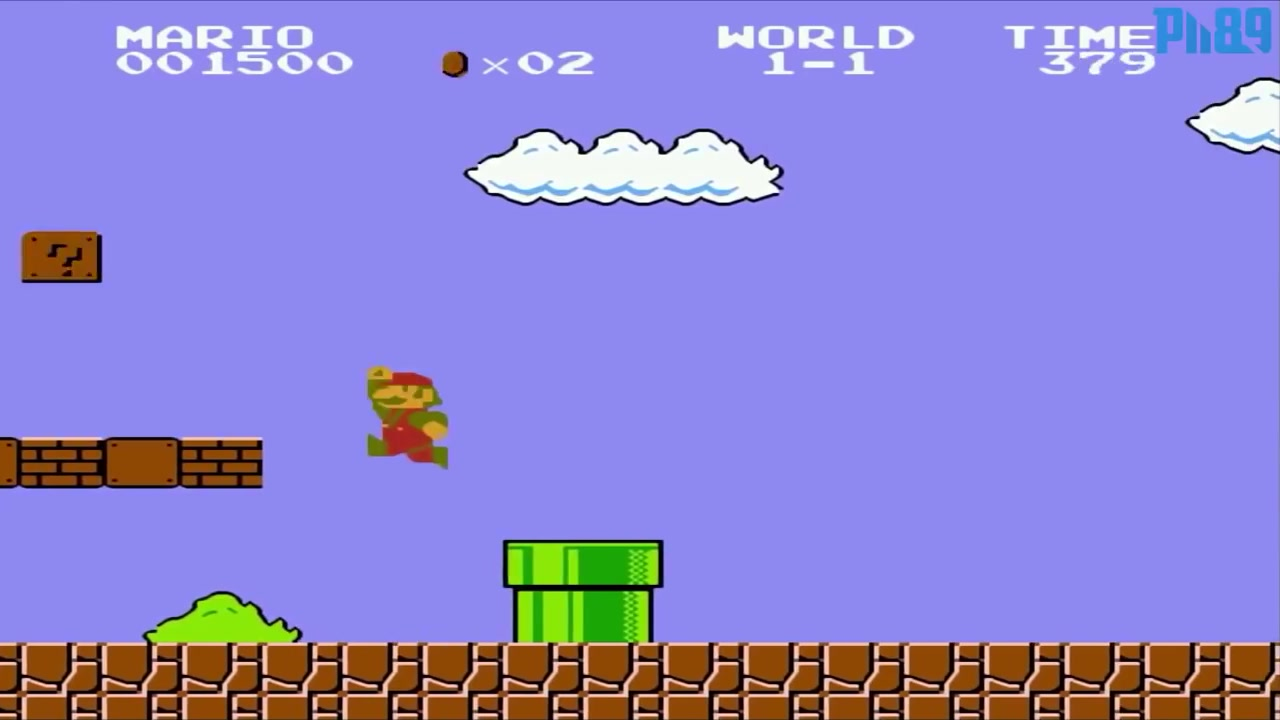mario: (355, 362, 456, 479)
